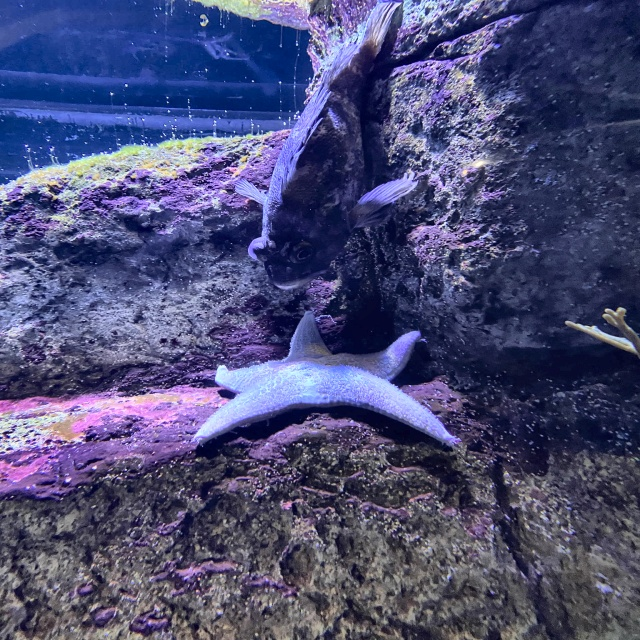fish: (235, 0, 416, 291)
starfish: (195, 311, 460, 449)
